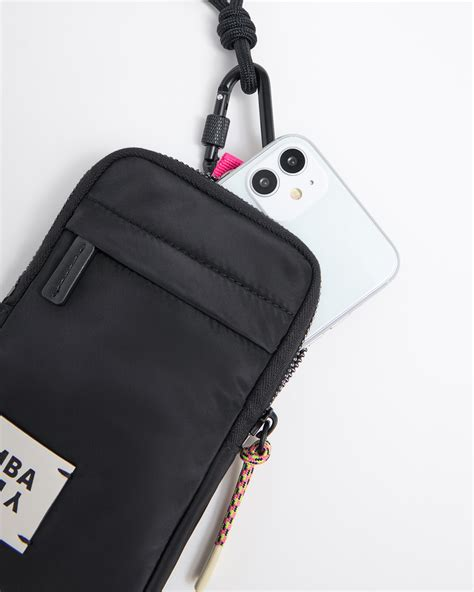nylon: (2, 149, 321, 592)
